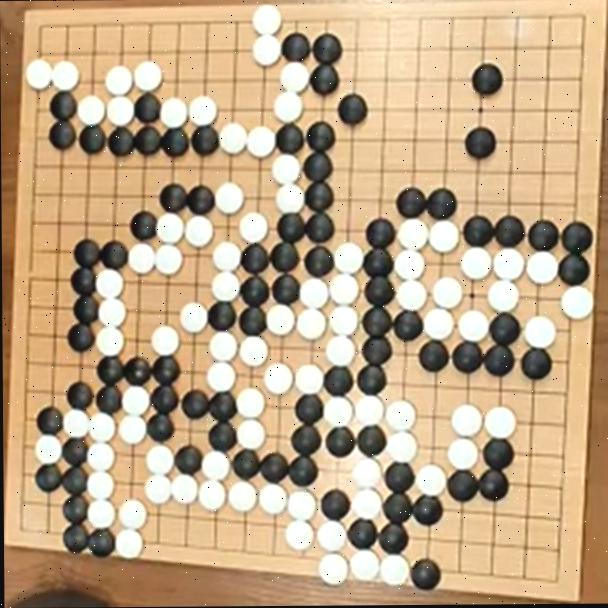corners: (556, 0, 602, 39), (528, 558, 572, 598), (25, 9, 63, 47), (3, 512, 41, 544)
